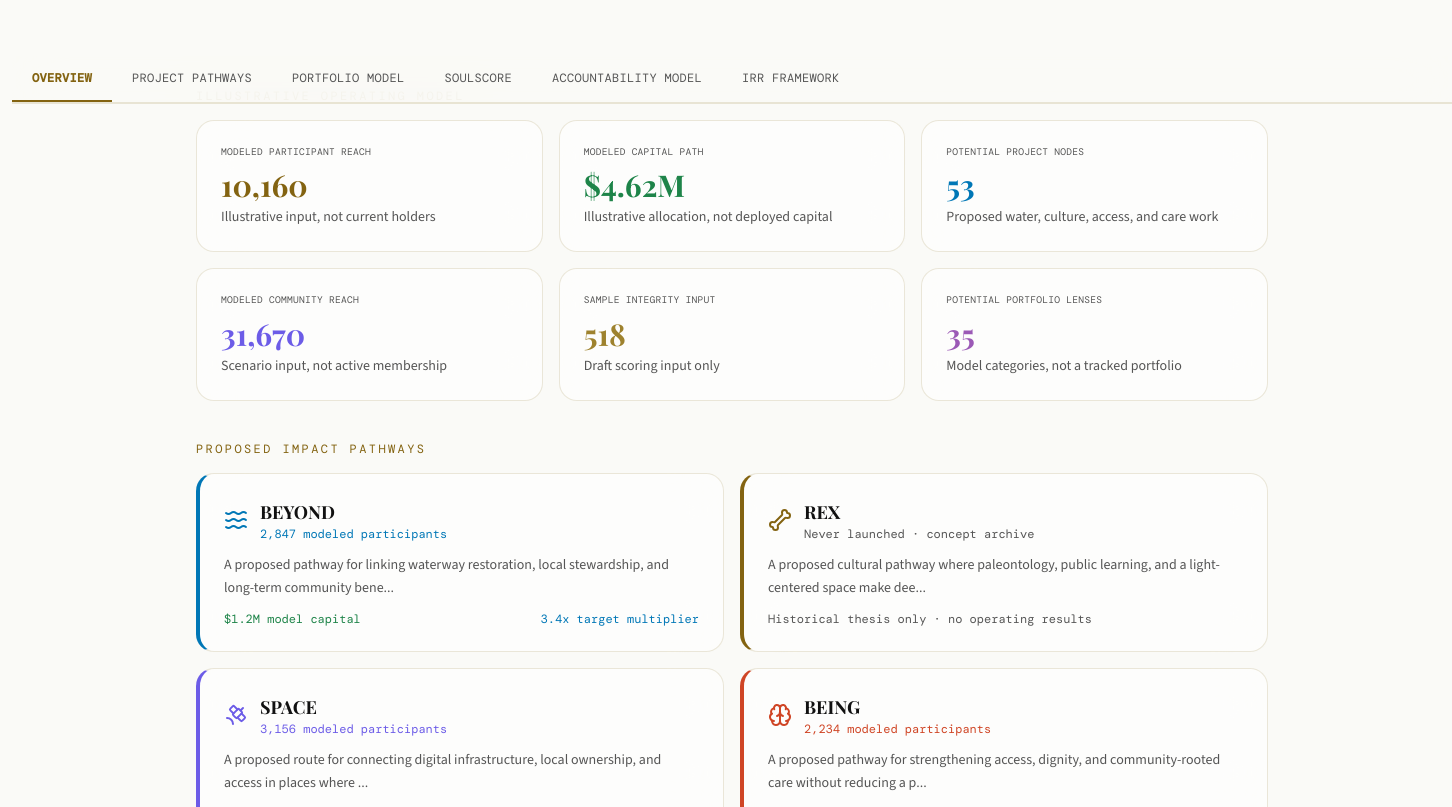
Test: ImpactDashboardExplorer › expands a pathway's details on the Project Pathways tab
Step 1. Click the button "Project Pathways" → click(192, 79), box [112,56,272,102]
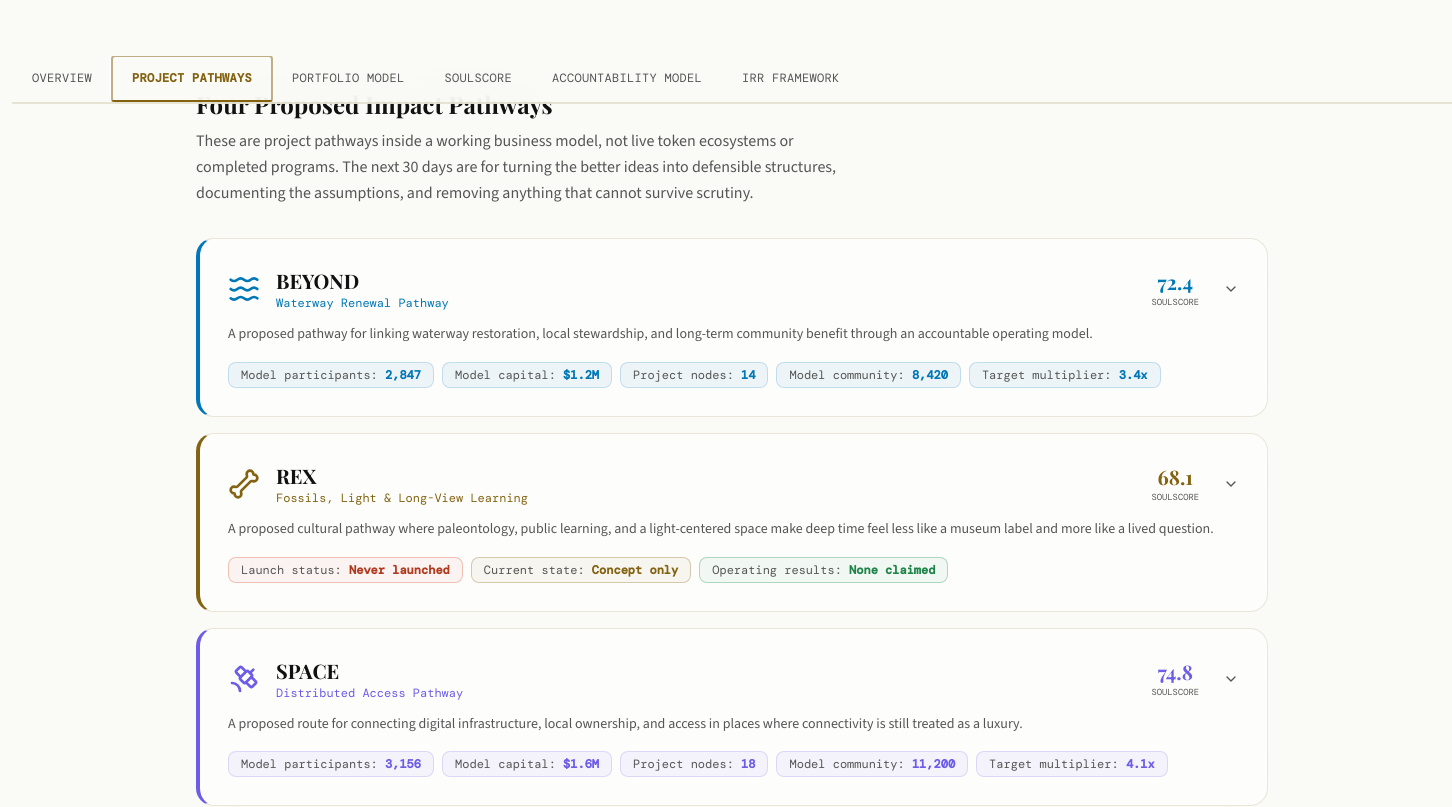
Step 2. Click the text "Waterway Renewal Pathway" → click(362, 303), box [276,295,449,311]
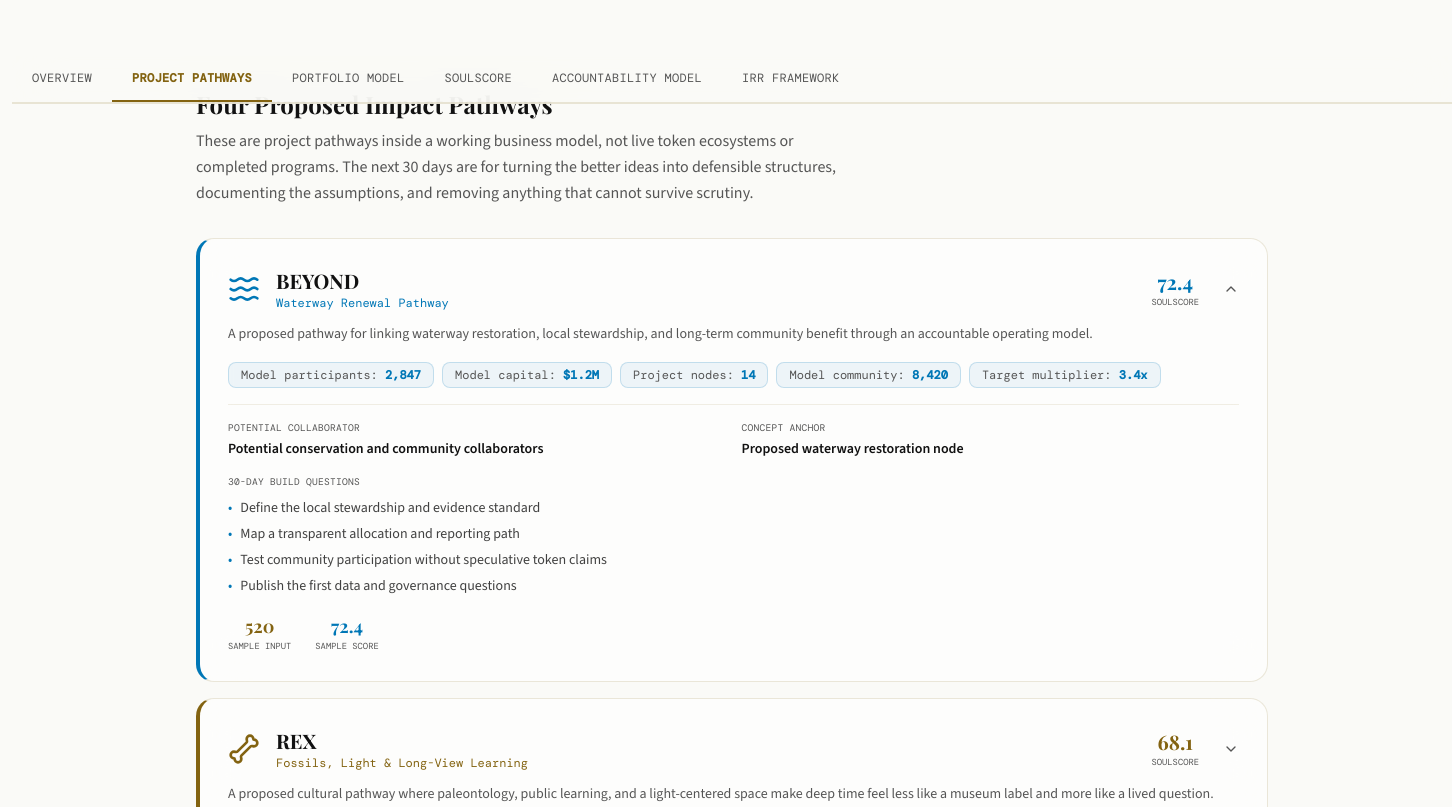
Expected: the text "Potential Collaborator" is shown, [228,421,360,434]
